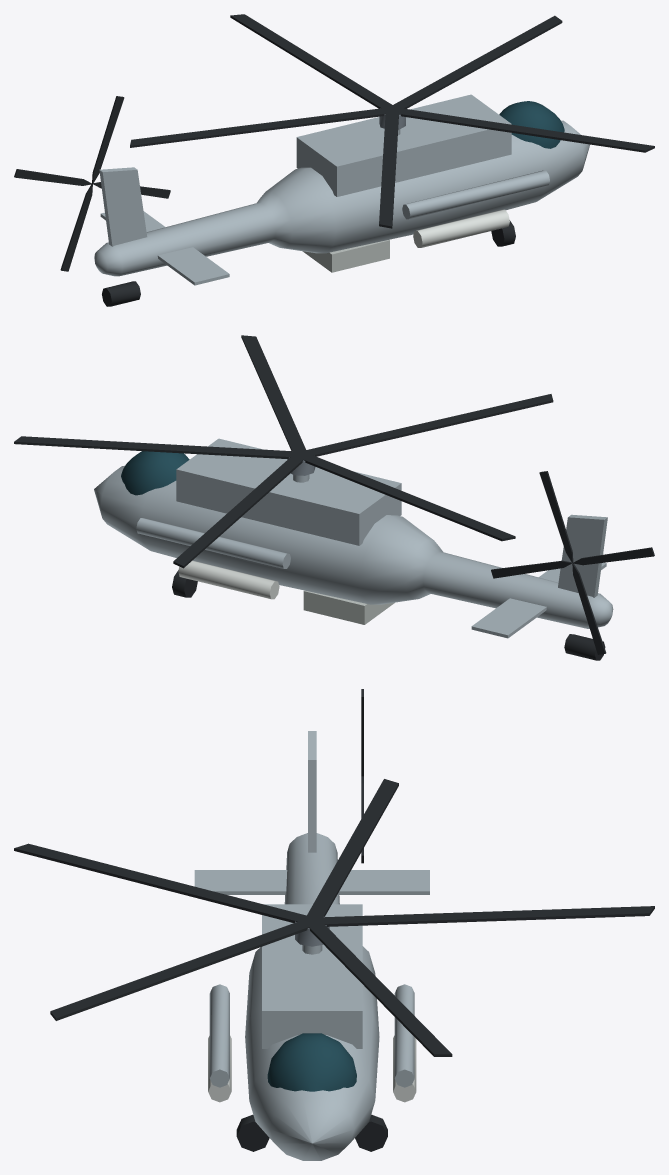
Rendered from pla_helo_z20f.glb.
3 views of the same model, one above another, from view 1: azimuth 30°, elevation 25°; view 2: azimuth 150°, elevation 25°; view 3: azimuth 270°, elevation 25° (orthographic). The views are drawn at different scales.
Parts seen in each view (by area): view 1: naval_paint, rubber, missile_body, glazing, array_face; view 2: naval_paint, rubber, glazing, missile_body, array_face; view 3: naval_paint, rubber, glazing, missile_body.
Part boxes in pixels (x1=…): naval_paint: x1=94, y1=94, x2=589, y2=285; rubber: x1=14, y1=14, x2=654, y2=306; missile_body: x1=413, y1=209, x2=509, y2=247; glazing: x1=499, y1=101, x2=564, y2=148; array_face: x1=303, y1=239, x2=389, y2=272; naval_paint: x1=94, y1=438, x2=613, y2=638; rubber: x1=14, y1=335, x2=654, y2=660; glazing: x1=121, y1=451, x2=189, y2=495; missile_body: x1=178, y1=560, x2=279, y2=599; array_face: x1=303, y1=590, x2=394, y2=624; naval_paint: x1=194, y1=731, x2=429, y2=1160; rubber: x1=14, y1=689, x2=654, y2=1151; glazing: x1=267, y1=1033, x2=356, y2=1091; missile_body: x1=208, y1=1035, x2=416, y2=1102.
Bounding box in the file's own units: 10 × 3.33 × 7.72.
